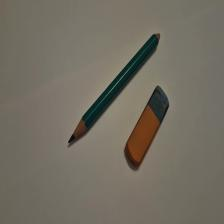eraser: (126, 86, 170, 167)
pencil: (69, 34, 161, 145)
